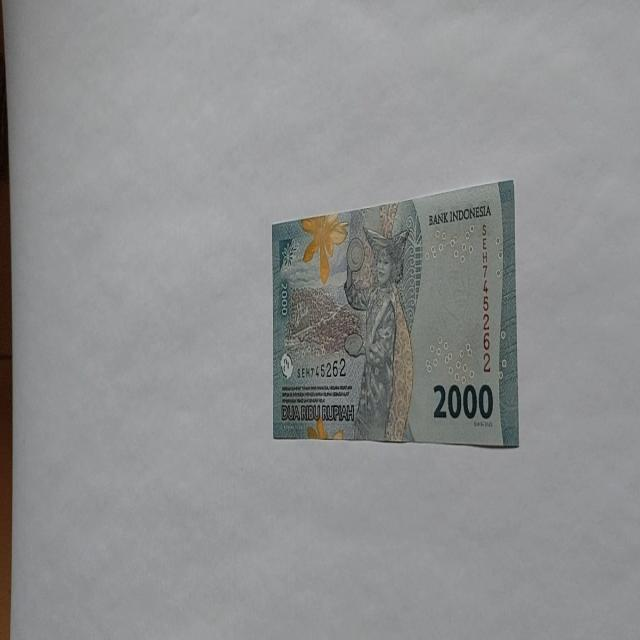dua ribu rupiah: (271, 178, 518, 448), (342, 224, 414, 442)
